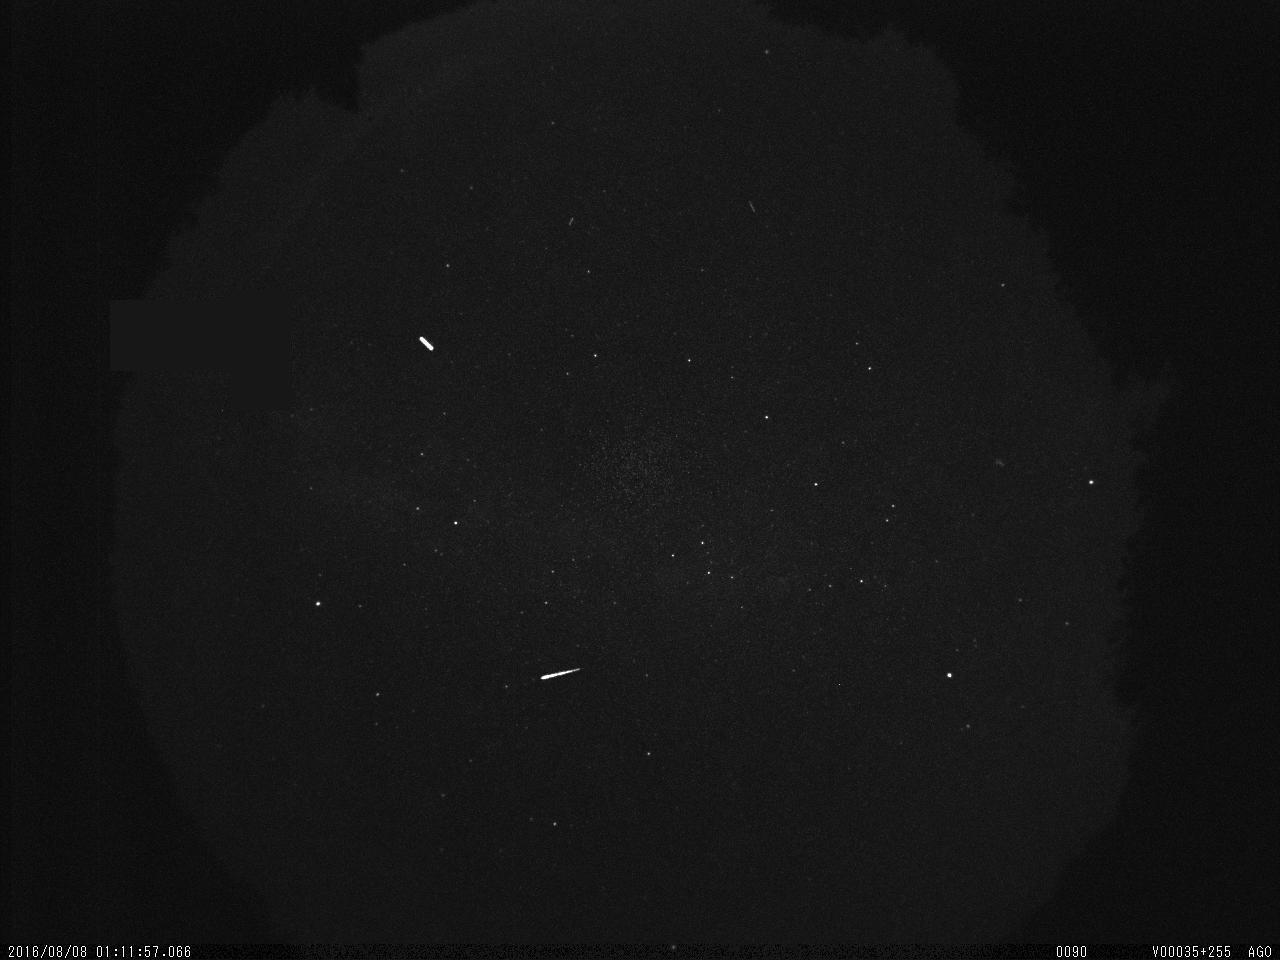meteor: (533, 661, 587, 691)
satelite: (414, 329, 438, 361)
